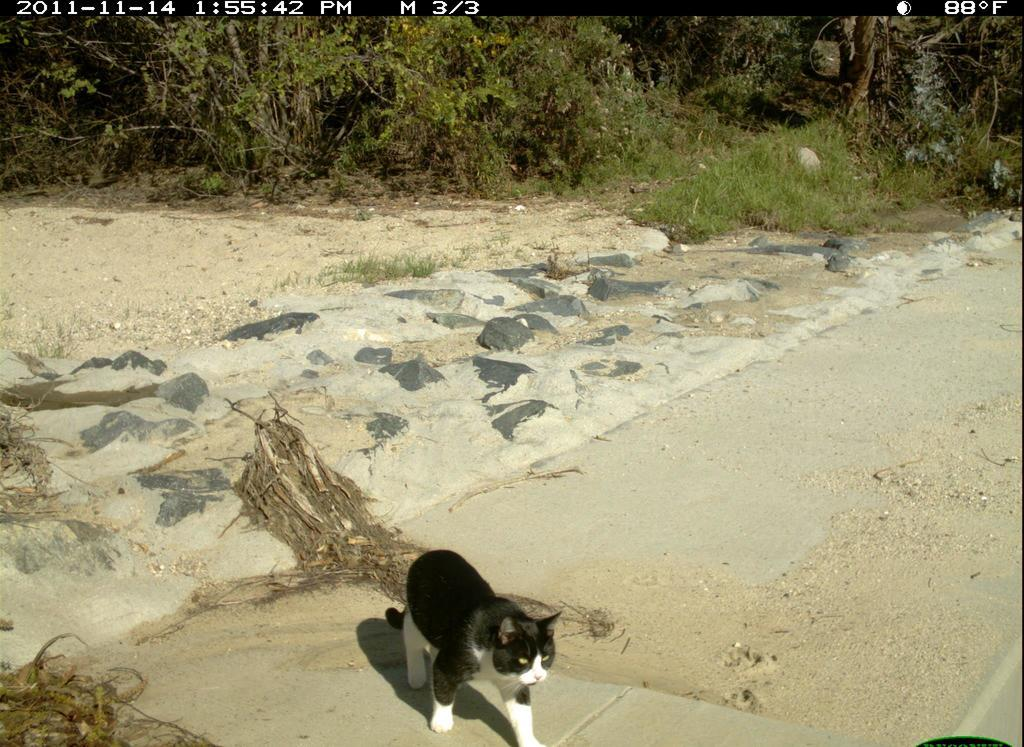cat: (376, 539, 578, 731)
